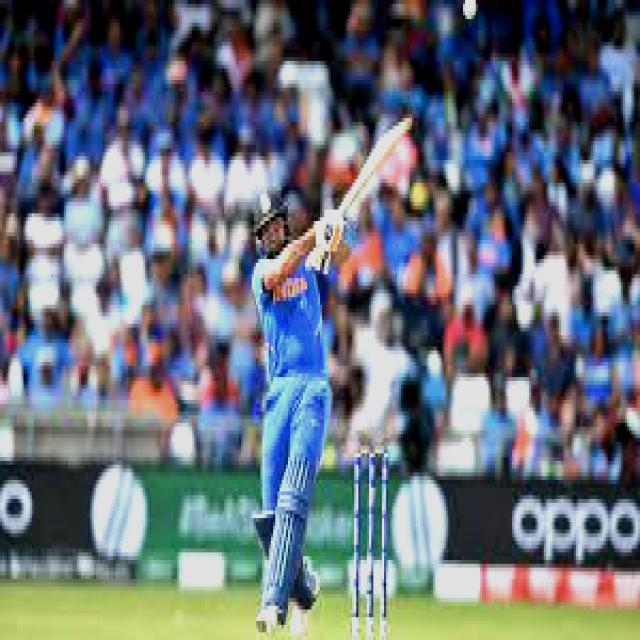toe: (390, 116, 413, 140)
